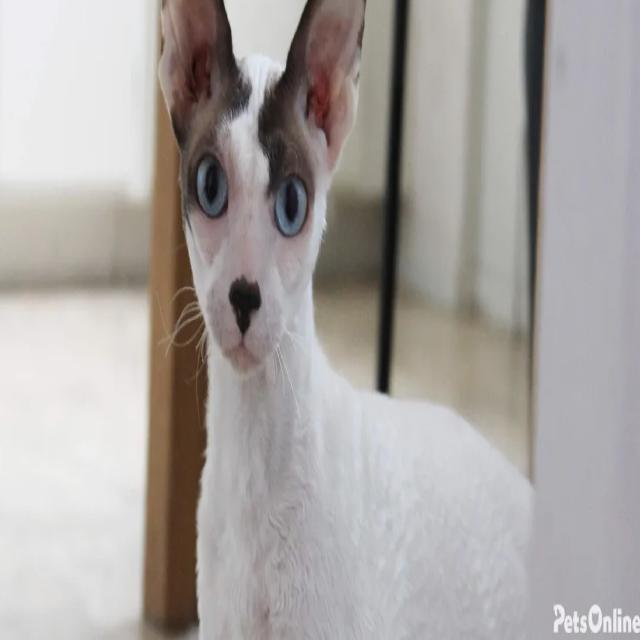Cornish Rex: (155, 0, 530, 640)
